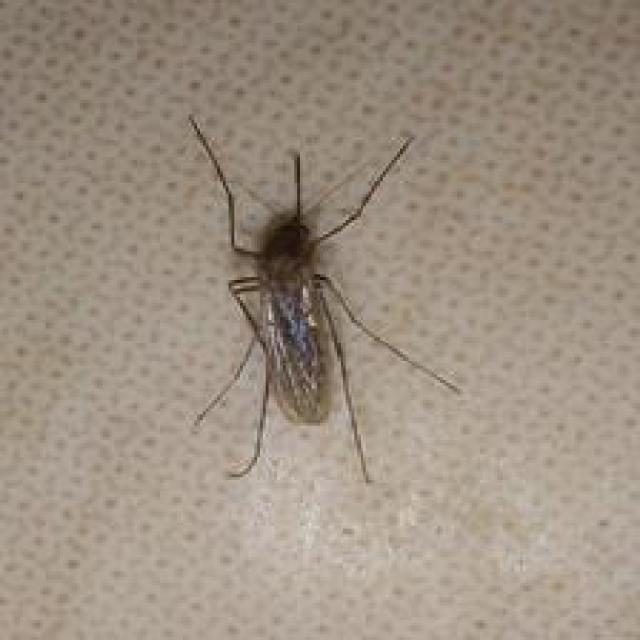Culex: (183, 113, 463, 484)
